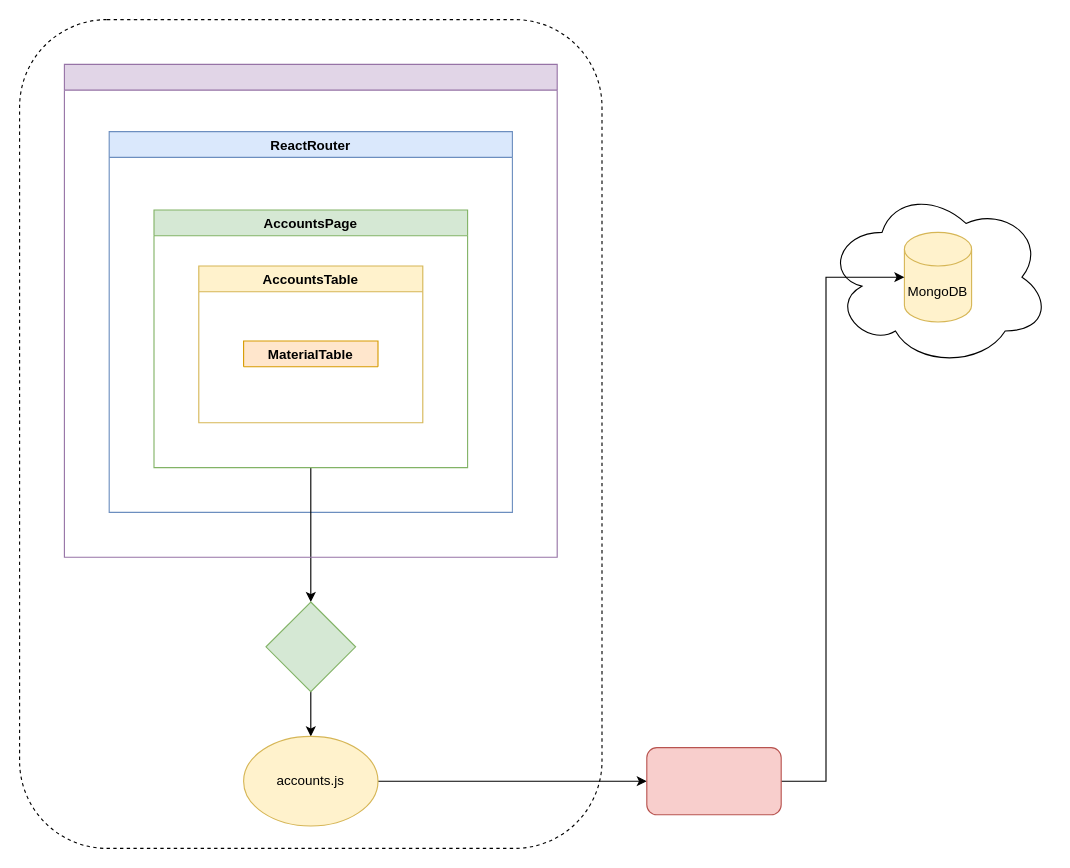
The diagram is 1070 pixels wide and 868 high, and some of its shapes have lost their labels. The centre of each missing label's shape, as x and y in pixels:
"api.js" goes at [310,646].
"App" goes at [310,310].
"Back-End Server" goes at [713,780].
